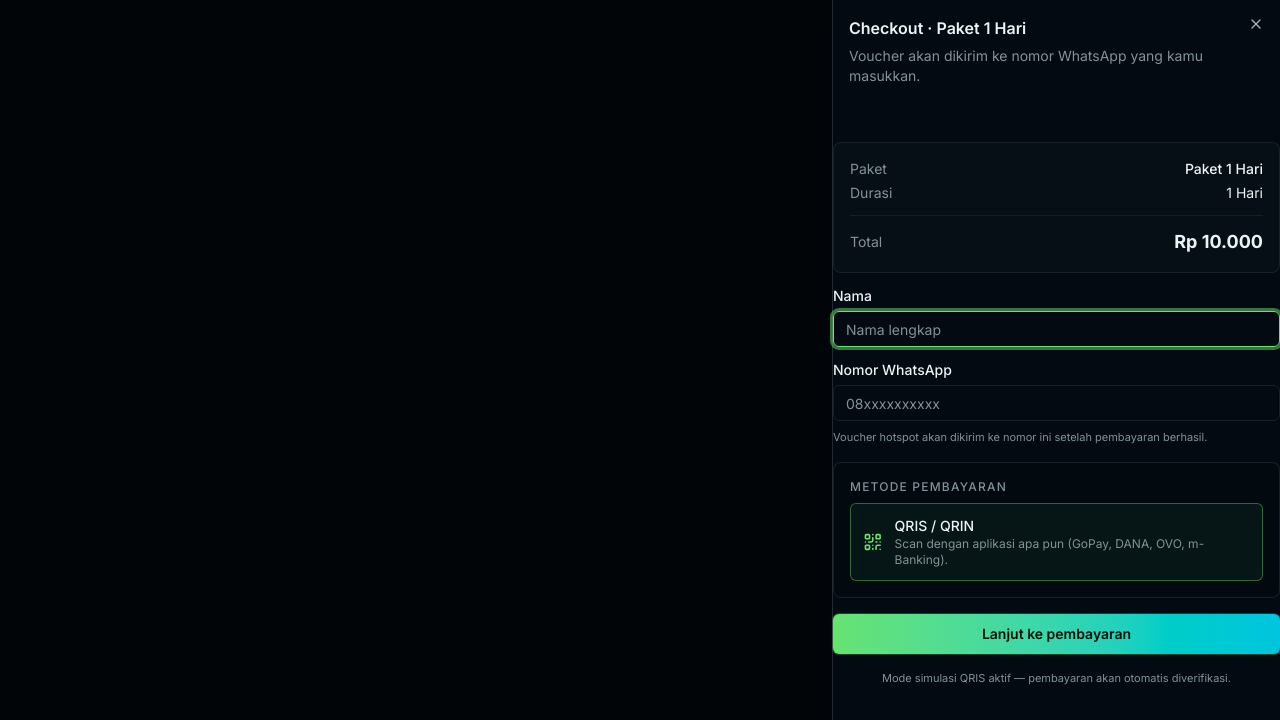
Test: CheckoutSheet › shows phone validation error
Type "Budi" into the field labelled "Nama". click: (1056, 329)
box: [833,311,1279,347]
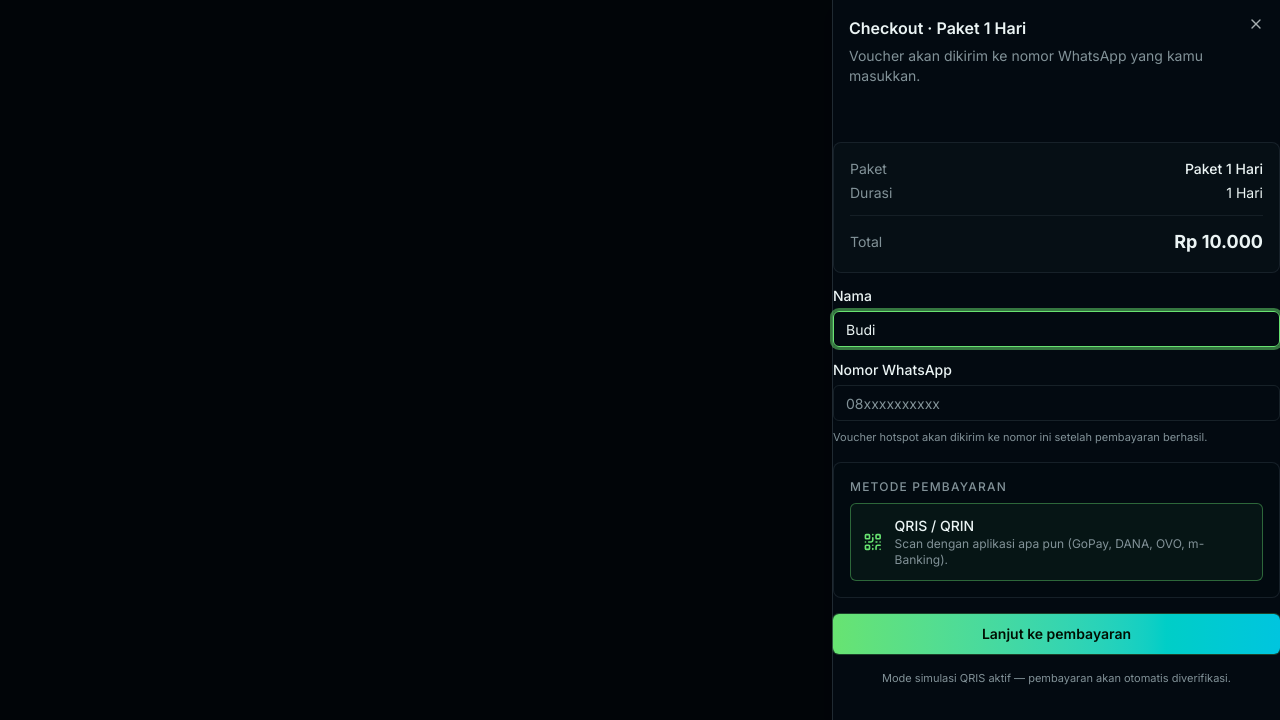
Type "123" into the field labelled "Nomor WhatsApp". click: (1056, 403)
box: [833,385,1279,421]
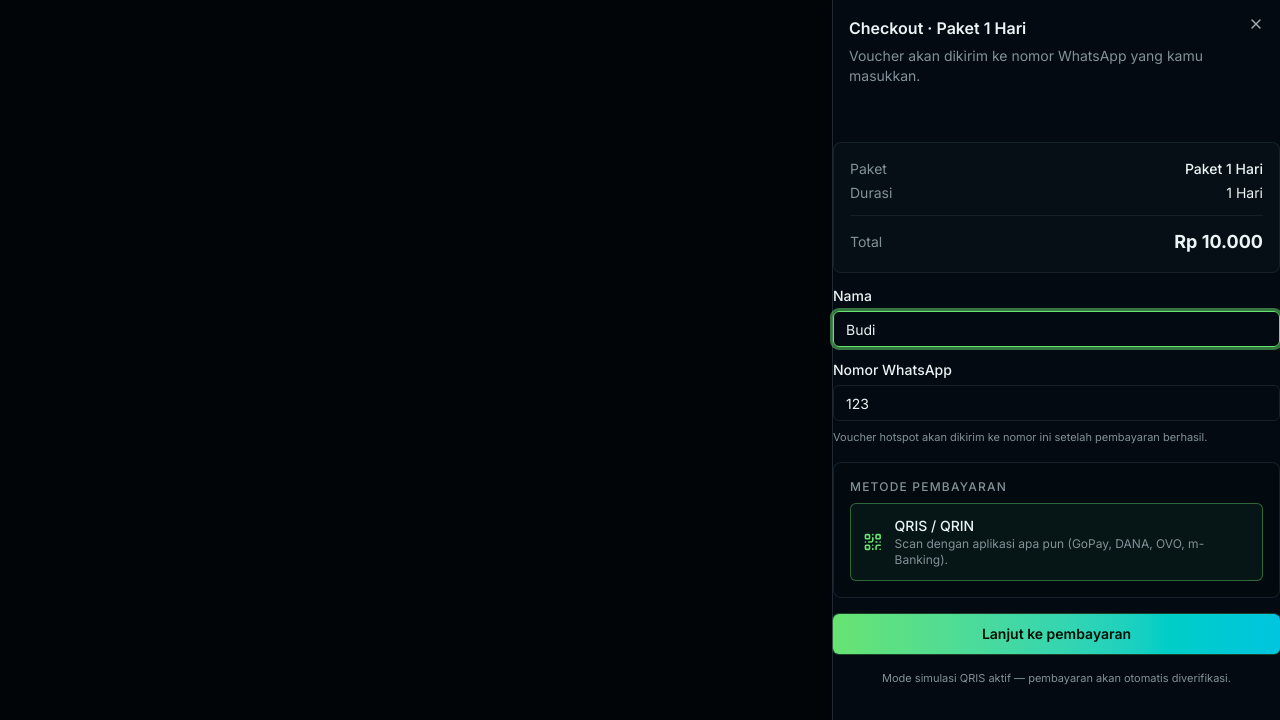
Click the button "Lanjut ke pembayaran". click: (1056, 634)
box: [833,614,1279,654]
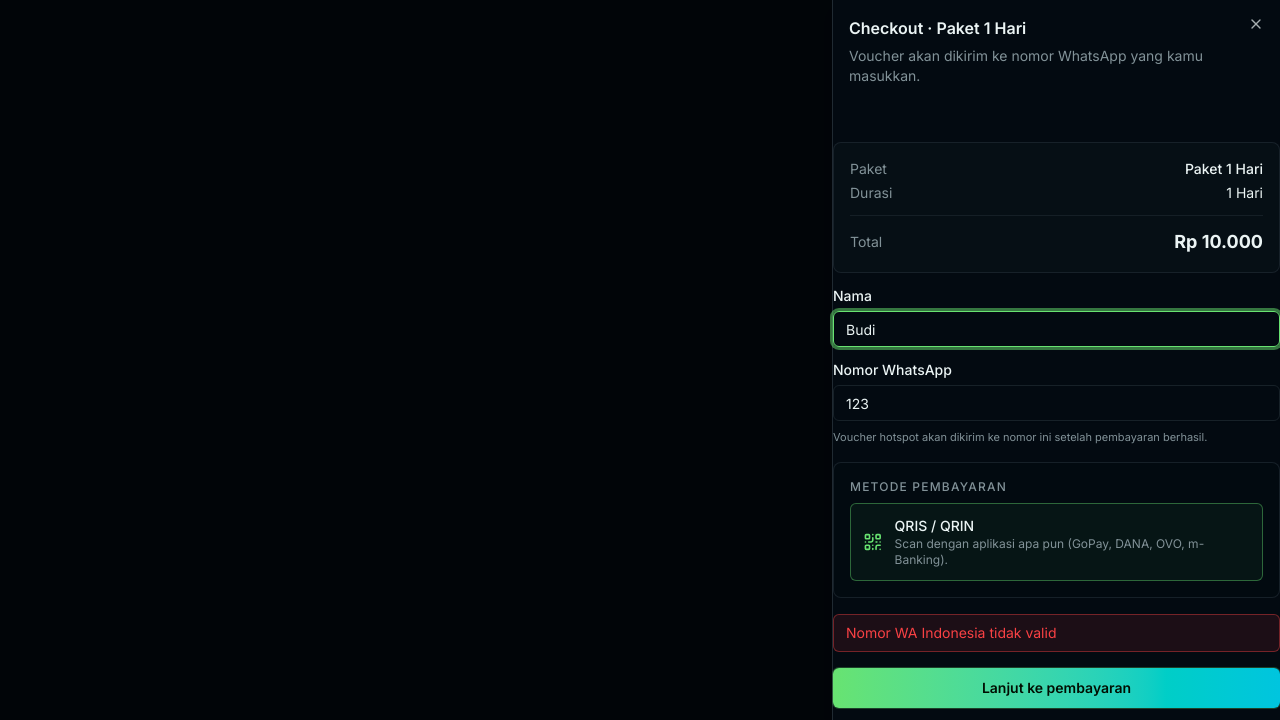
Expected: the text "Nomor WA Indonesia tidak valid" is shown, [833,614,1279,652]
